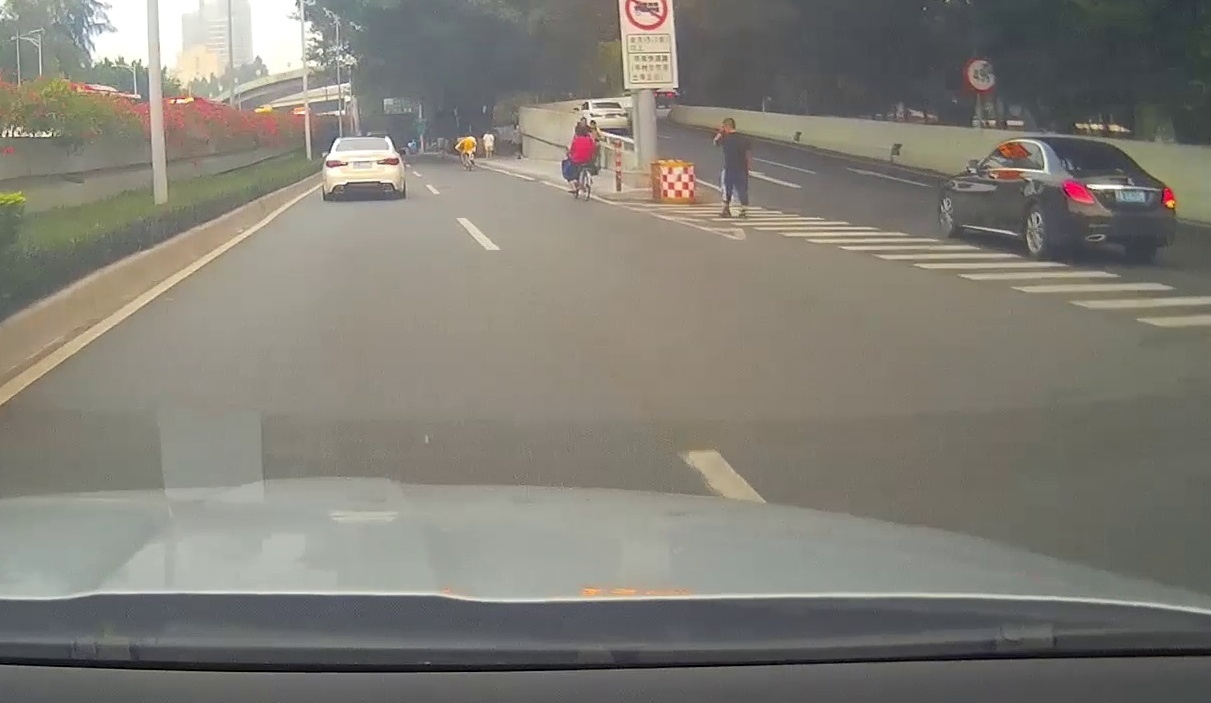L_light: (1063, 182, 1096, 204), (325, 160, 348, 168)
R_light: (1162, 187, 1175, 208), (376, 156, 400, 166)
T_light: (1083, 146, 1095, 150), (358, 140, 369, 142)
day-no: (322, 136, 403, 200)
day-right: (1049, 139, 1177, 262)
